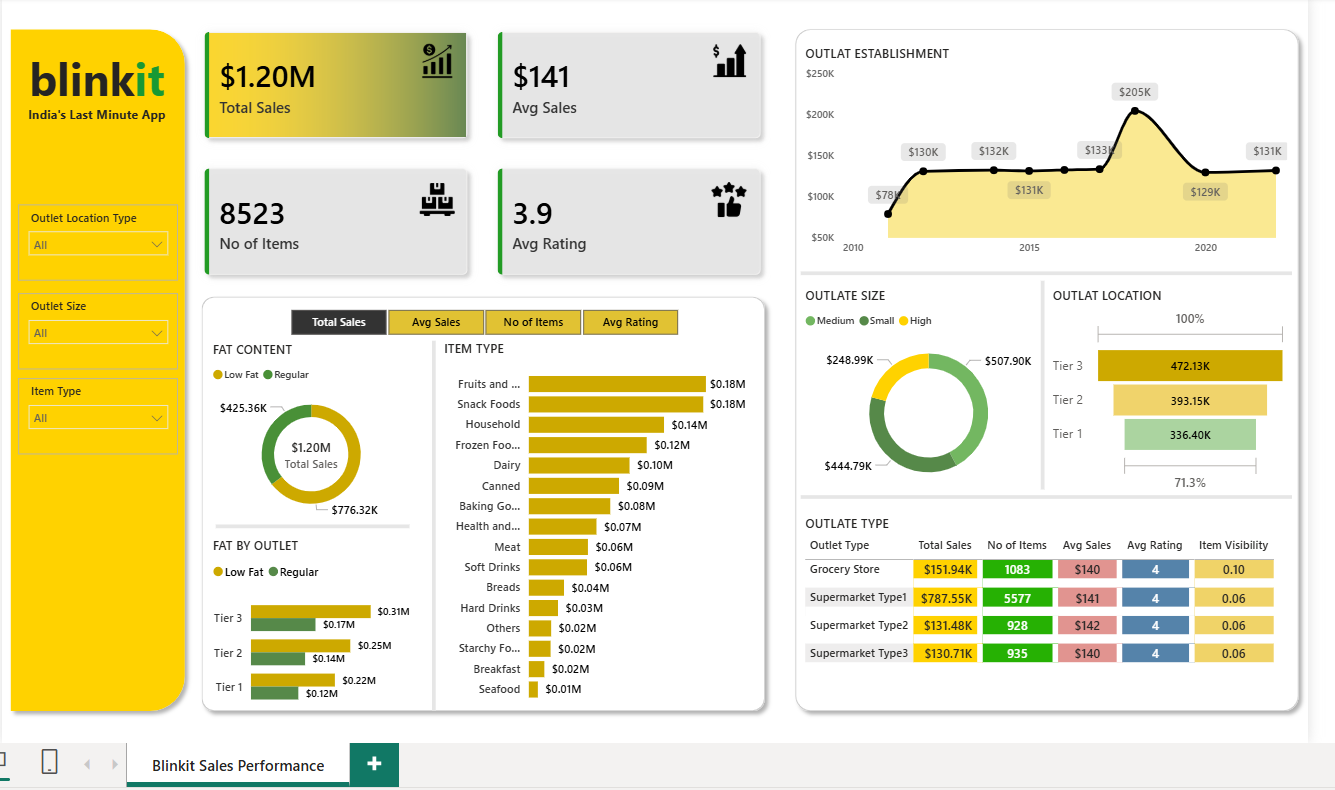

What the dashboard file says about the page in this screenshot:
{"tool":"powerbi","page":{"name":"Blinkit Sales Performance ","canvas":[1400,800],"ordinal":0},"visuals":[{"type":"shape","box":[0,25.5,205.1,749.3],"z":0},{"type":"textbox","box":[16.1,49.6,171.6,85.8],"z":1000},{"type":"textbox","box":[16.1,111.3,171.6,34.9],"z":2000},{"type":"cardVisual","fields":{"Data":["BlinkIT Grocery Data.Total Sales","BlinkIT Grocery Data.Avg Sales","BlinkIT Grocery Data.No of Items","BlinkIT Grocery Data.Avg Rating"]},"box":[205.1,25.5,622,285.5],"z":3000},{"type":"image","box":[756,49.6,48.3,37.5],"z":4000},{"type":"image","box":[442.4,49.6,48.3,37.5],"z":5000},{"type":"image","box":[442.4,198.4,48.3,37.5],"z":6000},{"type":"image","box":[756,198.4,46.9,37.5],"z":7000},{"type":"shape","box":[205.1,312.3,622,462.5],"z":8000},{"type":"donutChart","title":"FAT CONTENT","fields":{"Y":["BlinkIT Grocery Data.Total Sales"],"Category":["BlinkIT Grocery Data.Item Fat Content"]},"box":[221.2,368.6,221.2,198.4],"z":9000},{"type":"slicer","fields":{"Values":["Metrics.Metrics"]},"box":[284.2,328.4,465.1,40.2],"z":10000},{"type":"cardVisual","fields":{"Data":["BlinkIT Grocery Data.Total Sales"]},"box":[272.1,453.1,119.3,75.1],"z":11000},{"type":"clusteredBarChart","title":"FAT BY OUTLET","fields":{"Y":["BlinkIT Grocery Data.Total Sales"],"Category":["BlinkIT Grocery Data.Outlet Location Type"],"Series":["BlinkIT Grocery Data.Item Fat Content"]},"box":[221.2,579.1,221.2,195.7],"z":12000},{"type":"shape","box":[229.2,556.3,207.8,22.8],"z":13000},{"type":"shape","box":[424.9,368.6,76.4,396.8],"z":14000},{"type":"barChart","title":"ITEM TYPE","fields":{"Y":["BlinkIT Grocery Data.Total Sales"],"Category":["BlinkIT Grocery Data.Item Type"]},"box":[469.2,367.3,333.8,398.1],"z":15000},{"type":"shape","box":[841.8,25.5,557.6,749.3],"z":16000},{"type":"lineChart","title":"OUTLAT ESTABLISHMENT","fields":{"Category":["BlinkIT Grocery Data.Outlet Establishment Year"],"Y":["BlinkIT Grocery Data.Total Sales"]},"box":[856.6,50.9,526.8,234.6],"z":17000},{"type":"shape","box":[856.6,280.2,526.8,32.2],"z":18000},{"type":"donutChart","title":"OUTLATE SIZE","fields":{"Y":["BlinkIT Grocery Data.Total Sales"],"Category":["BlinkIT Grocery Data.Outlet Size"]},"box":[856.6,311,274.8,225.2],"z":19000},{"type":"shape","box":[1111.3,304.3,9.4,223.9],"z":20000},{"type":"funnel","title":"OUTLAT LOCATION","fields":{"Y":["Sum(BlinkIT Grocery Data.Sales)"],"Category":["BlinkIT Grocery Data.Outlet Location Type"]},"box":[1122,311,261.4,225.2],"z":21000},{"type":"shape","box":[856.6,528.2,526.8,16.1],"z":22000},{"type":"pivotTable","title":"OUTLATE TYPE","fields":{"Rows":["BlinkIT Grocery Data.Outlet Type"],"Values":["BlinkIT Grocery Data.Total Sales","BlinkIT Grocery Data.No of Items","BlinkIT Grocery Data.Avg Sales","BlinkIT Grocery Data.Avg Rating","Avg(BlinkIT Grocery Data.Item Visibility)"]},"box":[856.6,555,526.8,193],"z":23000},{"type":"slicer","fields":{"Values":["BlinkIT Grocery Data.Outlet Location Type"]},"box":[17.4,222.5,171.6,81.8],"z":24000},{"type":"slicer","fields":{"Values":["BlinkIT Grocery Data.Outlet Size"]},"box":[17.4,317.7,171.6,81.8],"z":25000},{"type":"slicer","fields":{"Values":["BlinkIT Grocery Data.Item Type"]},"box":[17.4,408.8,171.6,81.8],"z":26000}]}

Visuals, with their boxes on the page's 1400x800 design canvas (x1, y1, x2, y2). These are canvas units, not pixel positions in the 1335x790 screenshot, which may show the page scaled, cropped or inside an application window:
shape: x1=0 y1=26 x2=205 y2=775
textbox: x1=16 y1=50 x2=188 y2=135
textbox: x1=16 y1=111 x2=188 y2=146
cardVisual - BlinkIT Grocery Data.Total Sales x BlinkIT Grocery Data.Avg Sales: x1=205 y1=26 x2=827 y2=311
image: x1=756 y1=50 x2=804 y2=87
image: x1=442 y1=50 x2=491 y2=87
image: x1=442 y1=198 x2=491 y2=236
image: x1=756 y1=198 x2=803 y2=236
shape: x1=205 y1=312 x2=827 y2=775
"FAT CONTENT" donutChart: x1=221 y1=369 x2=442 y2=567
slicer - Metrics.Metrics: x1=284 y1=328 x2=749 y2=369
cardVisual - BlinkIT Grocery Data.Total Sales: x1=272 y1=453 x2=391 y2=528
"FAT BY OUTLET" clusteredBarChart: x1=221 y1=579 x2=442 y2=775
shape: x1=229 y1=556 x2=437 y2=579
shape: x1=425 y1=369 x2=501 y2=765
"ITEM TYPE" barChart: x1=469 y1=367 x2=803 y2=765
shape: x1=842 y1=26 x2=1399 y2=775
"OUTLAT ESTABLISHMENT" lineChart: x1=857 y1=51 x2=1383 y2=286
shape: x1=857 y1=280 x2=1383 y2=312
"OUTLATE SIZE" donutChart: x1=857 y1=311 x2=1131 y2=536
shape: x1=1111 y1=304 x2=1121 y2=528
"OUTLAT LOCATION" funnel: x1=1122 y1=311 x2=1383 y2=536
shape: x1=857 y1=528 x2=1383 y2=544
"OUTLATE TYPE" pivotTable: x1=857 y1=555 x2=1383 y2=748
slicer - BlinkIT Grocery Data.Outlet Location Type: x1=17 y1=222 x2=189 y2=304
slicer - BlinkIT Grocery Data.Outlet Size: x1=17 y1=318 x2=189 y2=400
slicer - BlinkIT Grocery Data.Item Type: x1=17 y1=409 x2=189 y2=491
